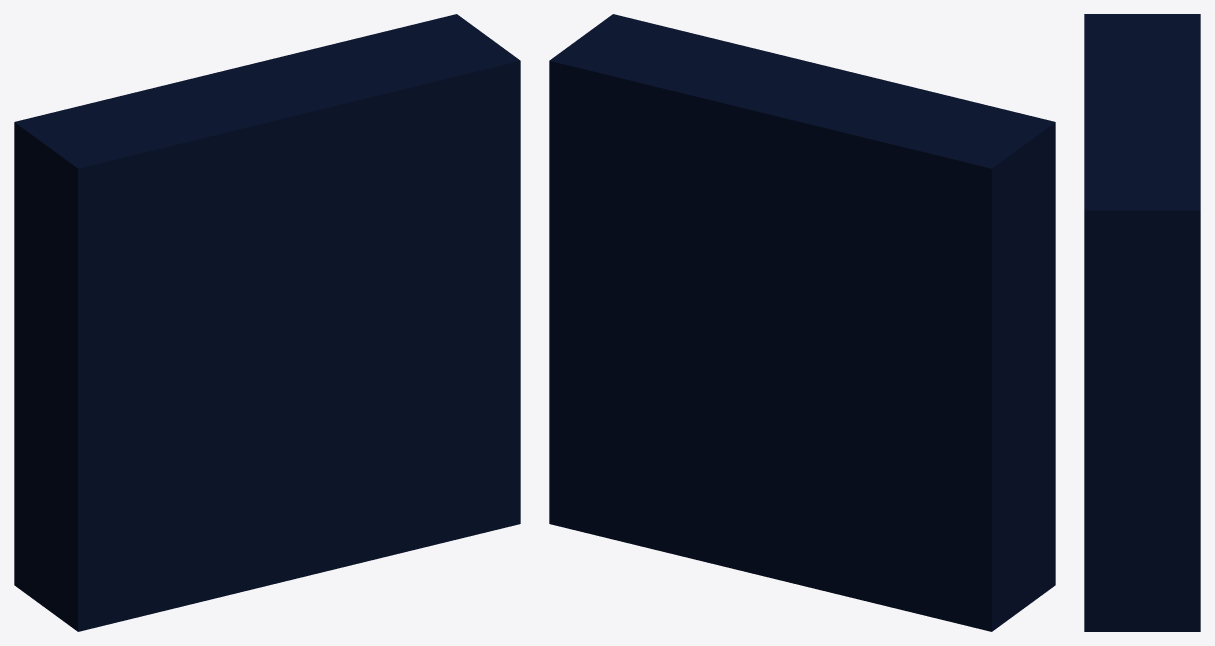
The model's file is MDL_WallV01_Tile.fbx.
The picture shows the model from 3 angles, left to right: view 1: azimuth 30°, elevation 25°; view 2: azimuth 150°, elevation 25°; view 3: azimuth 270°, elevation 25°; orthographic projection. The views are drawn at different scales.
Visible parts, largest first — view 1: LowPoly.011; view 2: LowPoly.011; view 3: LowPoly.011.
Boxes of the visible parts, <box> form: LowPoly.011: <box>14,14,520,631</box>; LowPoly.011: <box>549,14,1055,631</box>; LowPoly.011: <box>1084,14,1200,631</box>.
Bounding box in the file's own units: 100 × 100 × 25.
